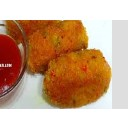cutlet: (48, 52, 110, 105), (25, 19, 89, 65)
